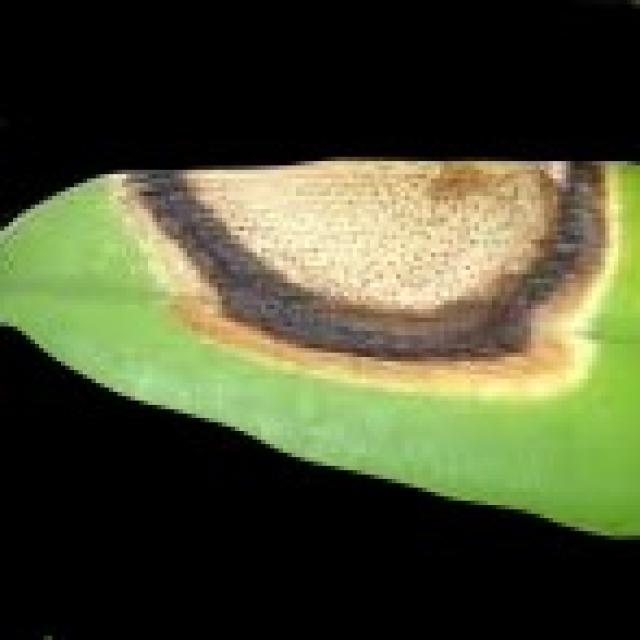mite: (0, 318, 636, 636), (488, 161, 605, 353), (518, 183, 588, 300), (0, 610, 74, 636), (0, 623, 126, 636), (22, 618, 65, 636)
sunburn: (122, 152, 614, 370)
